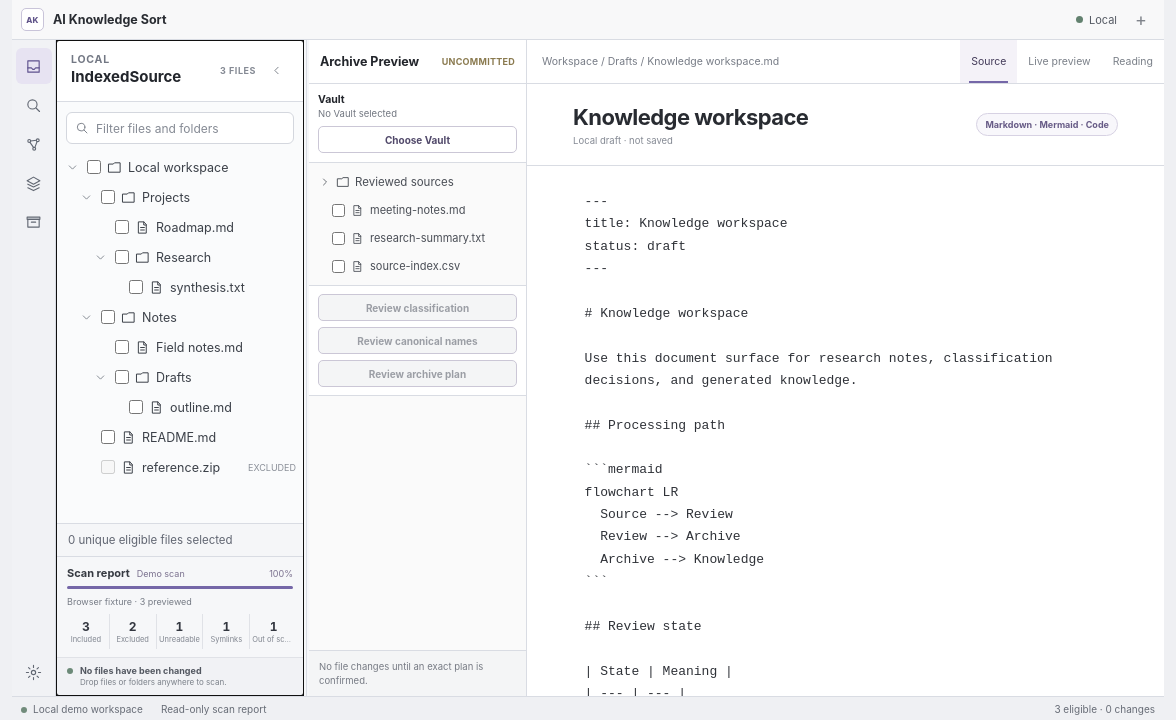
Test: source workbench shell › recovers verified knowledge targets after selecting an existing Vault
Step 1. Click the button "Choose Vault" → (418, 140), box [318, 126, 517, 153]
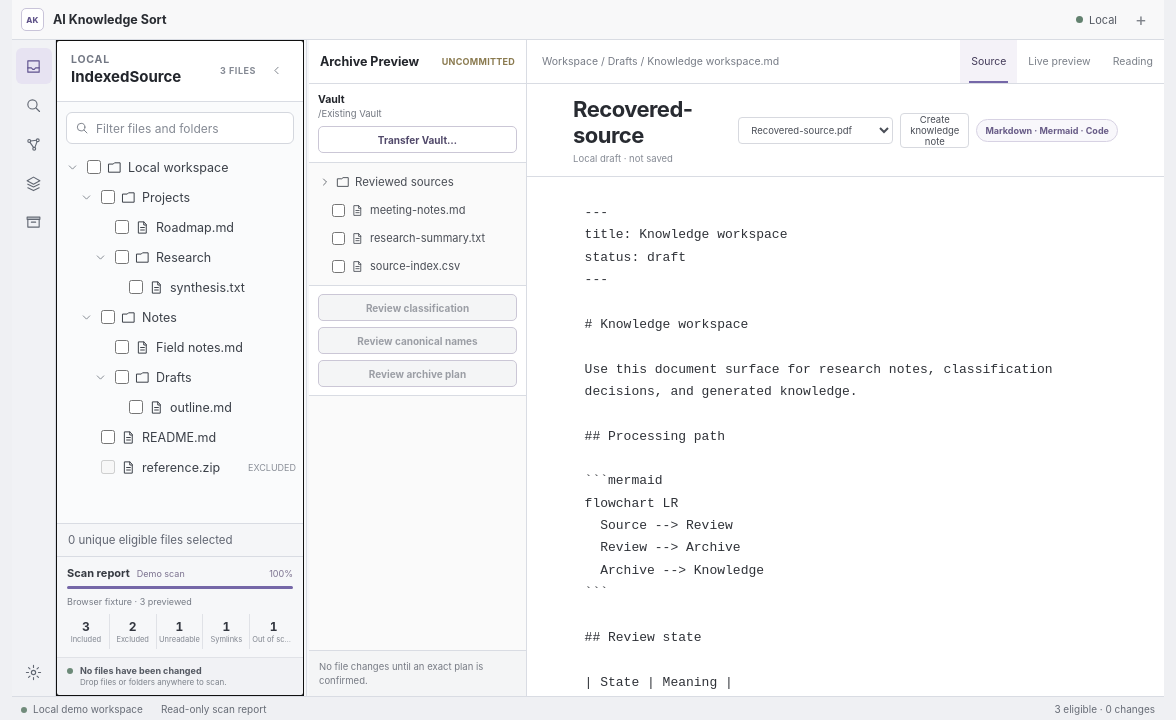
Expected: the dropdown named "Eligible archived original" shows "Recovered-source.pdf", [738, 116, 893, 144]
